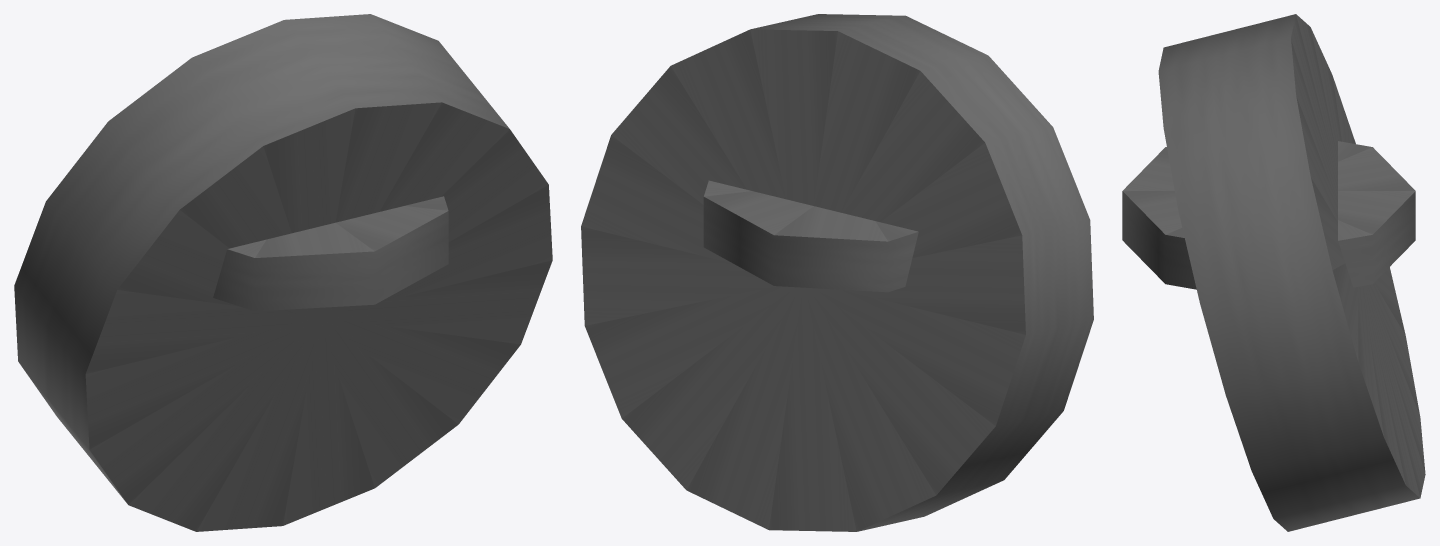
File: mastarmcurve_8x2_c4_up.obj
The picture shows the model from 3 angles, left to right: view 1: azimuth 30°, elevation 25°; view 2: azimuth 150°, elevation 25°; view 3: azimuth 270°, elevation 25°; orthographic projection. The views are drawn at different scales.
Visible parts, largest first — view 1: mastarm_8x2_c4_up; view 2: mastarm_8x2_c4_up; view 3: mastarm_8x2_c4_up.
Boxes of the visible parts, x1=… form: mastarm_8x2_c4_up: x1=14, y1=14, x2=552, y2=531; mastarm_8x2_c4_up: x1=581, y1=14, x2=1093, y2=531; mastarm_8x2_c4_up: x1=1122, y1=14, x2=1425, y2=531.
Size of the model in its own units: 0.6823 by 0.7076 by 0.4133.
